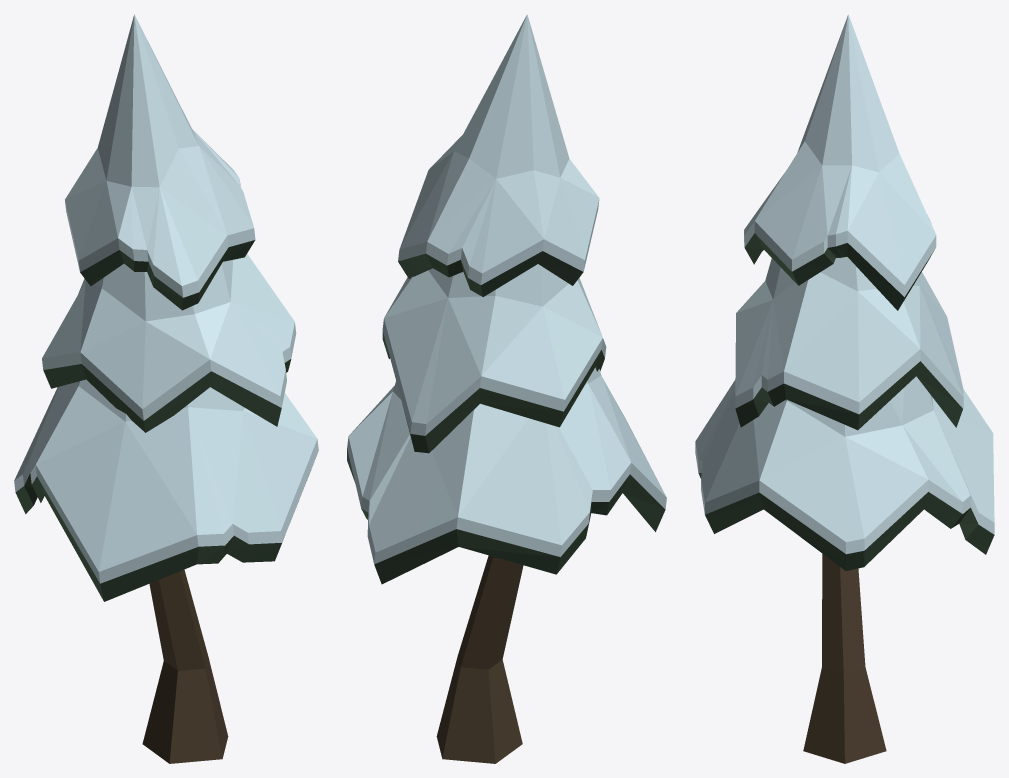
Rendered from SM_Env_TreePine_01_Snow.gltf.
The picture shows the model from 3 angles, left to right: view 1: azimuth 30°, elevation 25°; view 2: azimuth 150°, elevation 25°; view 3: azimuth 270°, elevation 25°; orthographic projection. The views are drawn at different scales.
Visible parts, largest first — view 1: SM_Env_TreePine_01_Snow; view 2: SM_Env_TreePine_01_Snow; view 3: SM_Env_TreePine_01_Snow.
Boxes of the visible parts, x1,y1,x2,y2 form: SM_Env_TreePine_01_Snow: [14, 14, 318, 763]; SM_Env_TreePine_01_Snow: [347, 14, 666, 763]; SM_Env_TreePine_01_Snow: [695, 14, 994, 763].
Bounding box in the file's own units: 2.84 × 7.39 × 2.83.
Materials: 1 (1 with a texture image).
